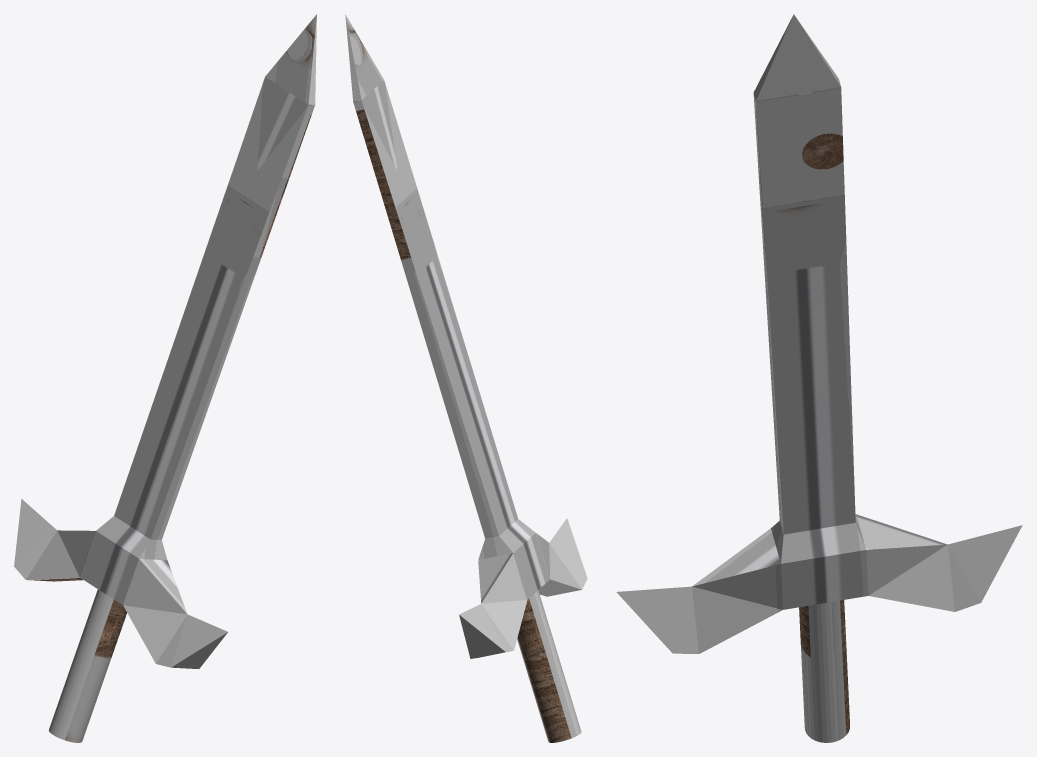
The model's file is Protagonista18.obj.
3 renders of one model, left to right at view 1: azimuth 30°, elevation 25°; view 2: azimuth 150°, elevation 25°; view 3: azimuth 270°, elevation 25°, orthographic. The views are drawn at different scales.
Parts seen in each view (by area): view 1: Cube; view 2: Cube; view 3: Cube.
Part boxes in pixels (x1,y1,x2,y2): Cube: (14, 14, 316, 742); Cube: (345, 14, 587, 742); Cube: (616, 14, 1022, 742).
Bounding box in the file's own units: 0.6437 × 1.65 × 0.701.
1 material, 1 textured.
